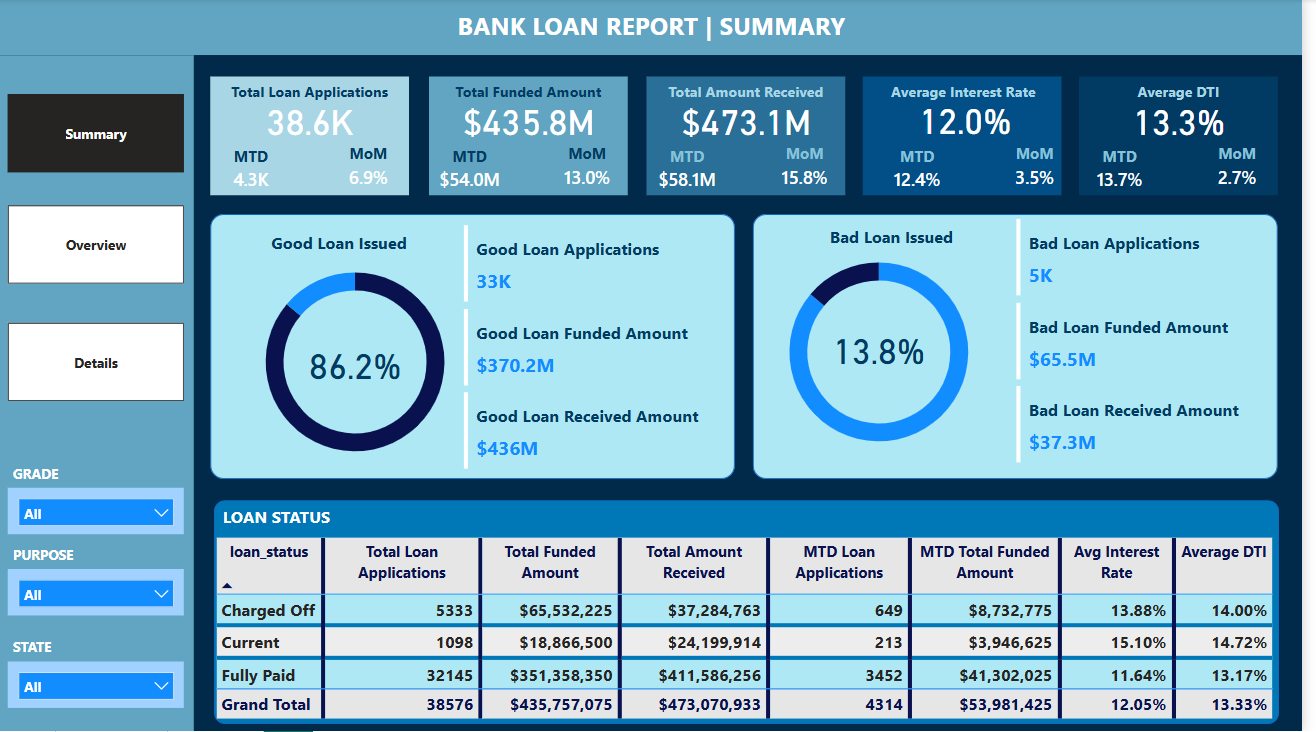

This screenshot's page, from the dashboard's own definition file:
{"tool":"powerbi","page":{"name":"Summary","canvas":[1280,720],"ordinal":0},"visuals":[{"type":"shape","box":[207.4,76.1,195.1,116.6],"z":0,"group":"g2"},{"type":"shape","box":[422.1,76.1,195.1,116.6],"z":0,"group":"g3"},{"type":"shape","box":[635.6,76.1,195.1,116.6],"z":0,"group":"g4"},{"type":"shape","box":[847.9,76.1,195.1,116.6],"z":0,"group":"g5"},{"type":"shape","box":[1060.1,76.1,195.1,116.6],"z":0,"group":"g6"},{"type":"shape","box":[207.4,211,515,260.1],"z":0},{"type":"donutChart","fields":{"Category":["financial_loan.Good v Bad Loan"],"Y":["financial_loan.Total Loan Applications"]},"box":[738.7,231.6,250.3,229.4],"z":0,"group":"g1"},{"type":"donutChart","fields":{"Category":["financial_loan.Good v Bad Loan"],"Y":["financial_loan.Total Loan Applications"]},"box":[224.5,241.7,250.3,229.4],"z":0,"group":"g7"},{"type":"shape","box":[0,55.2,191.4,665],"z":1000},{"type":"card","fields":{"Values":["financial_loan.Avg Interest Rate"]},"box":[867.7,91.9,162,50.3],"z":1000,"group":"g5"},{"type":"card","fields":{"Values":["financial_loan.Total Loan Applications"]},"box":[224.6,93.3,162,50.3],"z":1000,"group":"g2"},{"type":"card","fields":{"Values":["financial_loan.Total Funded Amount"]},"box":[439.3,93.3,162,50.3],"z":1000,"group":"g3"},{"type":"card","fields":{"Values":["financial_loan.Total Amount Received"]},"box":[652.8,93.3,162,50.3],"z":1000,"group":"g4"},{"type":"card","fields":{"Values":["financial_loan.Average DTI"]},"box":[1077.3,93.3,162,50.3],"z":1000,"group":"g6"},{"type":"textbox","box":[800.2,217.1,152.1,35.6],"z":1000,"group":"g1"},{"type":"textbox","box":[257.6,223.3,152.1,35.6],"z":1000,"group":"g7"},{"type":"shape","box":[0,0,1280.3,55],"z":2000},{"type":"textbox","box":[849.3,76,195.1,33.1],"z":2000,"group":"g5"},{"type":"textbox","box":[207.4,76.1,195.1,33.1],"z":2000,"group":"g2"},{"type":"textbox","box":[422.1,76.1,195.1,33.1],"z":2000,"group":"g3"},{"type":"textbox","box":[635.6,76.1,195.1,33.1],"z":2000,"group":"g4"},{"type":"textbox","box":[1060.1,76.1,195.1,33.1],"z":2000,"group":"g6"},{"type":"cardVisual","fields":{"Data":["financial_loan.Bad Loan Applications","financial_loan.Bad Loan Funded Amount","financial_loan.Bad Loan Received Amount"]},"box":[994,211,271.2,249.1],"z":2000,"group":"g1"},{"type":"cardVisual","fields":{"Data":["financial_loan.Good Loan Applications","financial_loan.Good Loan Funded Amount","financial_loan.Good Loan Received Amount"]},"box":[451.5,217.2,271.2,249.1],"z":2000,"group":"g7"},{"type":"card","title":"MTD","fields":{"Values":["financial_loan.MTD Loan Applications"]},"box":[207.4,143.6,79.8,51.5],"z":3000,"group":"g2"},{"type":"card","title":"MTD","fields":{"Values":["financial_loan.MTD Total Funded Amount"]},"box":[422.1,143.6,79.8,51.5],"z":3000,"group":"g3"},{"type":"card","title":"MTD","fields":{"Values":["financial_loan.MTD Total Amount Received"]},"box":[635.6,143.6,79.8,51.5],"z":3000,"group":"g4"},{"type":"card","title":"MTD","fields":{"Values":["financial_loan.MTD Average DTI"]},"box":[1060.1,143.6,79.8,51.5],"z":3000,"group":"g6"},{"type":"card","title":"MTD","fields":{"Values":["financial_loan.MTD Average Interest Rate"]},"box":[861.2,144,79.8,51.5],"z":3000,"group":"g5"},{"type":"shape","box":[739.9,211,515.3,260.1],"z":3000},{"type":"card","title":"MoM","fields":{"Values":["financial_loan.MOM Loan Apllications"]},"box":[322.7,141.1,79.8,51.5],"z":4000,"group":"g2"},{"type":"card","title":"MoM","fields":{"Values":["financial_loan.MOM Funded Amount"]},"box":[537.4,141.1,79.8,51.5],"z":4000,"group":"g3"},{"type":"card","title":"MoM","fields":{"Values":["financial_loan.MOM AMount Received"]},"box":[750.9,141.1,79.8,51.5],"z":4000,"group":"g4"},{"type":"card","title":"MoM","fields":{"Values":["financial_loan.MOM Average DTI"]},"box":[1175.4,141.1,79.8,51.5],"z":4000,"group":"g6"},{"type":"card","title":"MoM","fields":{"Values":["financial_loan.MOM Interest Rate"]},"box":[976.6,141.6,79.8,51.5],"z":4000,"group":"g5"},{"type":"card","fields":{"Values":["financial_loan.Good Loan %"]},"box":[268.7,332.5,162,50.3],"z":4000},{"type":"card","fields":{"Values":["financial_loan.Bad Loan %"]},"box":[782.8,317.8,162,50.3],"z":5000},{"type":"group","id":"g1","title":"Group 2","box":[738.7,211,526.4,250.3],"z":6000},{"type":"textbox","box":[433.1,4.9,414.7,44.2],"z":7000},{"type":"group","id":"g2","title":"Group 1","box":[207.4,76.1,195.1,119],"z":8000},{"type":"group","id":"g3","title":"Group 1","box":[422.1,76.1,195.1,119],"z":9000},{"type":"shape","box":[211,492,1045.4,219.6],"z":10000},{"type":"group","id":"g4","title":"Group 1","box":[635.6,76.1,195.1,119],"z":11000},{"type":"group","id":"g5","title":"Group 1","box":[847.9,76,208.4,119.6],"z":12000},{"type":"group","id":"g6","title":"Group 1","box":[1060.1,76.1,195.1,119],"z":13000},{"type":"group","id":"g7","title":"Group 2","box":[224.5,217.2,498.2,254],"z":14000},{"type":"tableEx","fields":{"Values":["financial_loan.loan_status","financial_loan.Total Loan Applications","financial_loan.Total Funded Amount","financial_loan.Total Amount Received","financial_loan.MTD Loan Applications","financial_loan.MTD Total Funded Amount","financial_loan.Avg Interest Rate","financial_loan.Average DTI"]},"box":[209.8,523.9,1047.9,196.3],"z":15000},{"type":"textbox","box":[214.7,492,195.1,33.1],"z":16000},{"type":"slicer","fields":{"Values":["financial_loan.address_state"]},"box":[8.6,650.3,173,45.4],"z":17000},{"type":"textbox","box":[8.6,622.1,100.6,28.2],"z":18000},{"type":"slicer","fields":{"Values":["financial_loan.purpose"]},"box":[8.6,559.5,173,45.4],"z":19000},{"type":"textbox","box":[8.6,451.5,100.6,28.2],"z":20000},{"type":"textbox","box":[8.6,531.3,100.6,28.2],"z":21000},{"type":"slicer","fields":{"Values":["financial_loan.sub_grade"]},"box":[8.6,479.8,173,45.4],"z":22000},{"type":"pageNavigator","box":[8.6,93.3,173,77.3],"z":23000},{"type":"pageNavigator","box":[8.6,202.5,173,77.3],"z":24000},{"type":"pageNavigator","box":[8.6,317.8,173,77.3],"z":25000}]}

Visuals, with their boxes in screenshot pixels (x1, y1, x2, y2), scaled from the page's 1280x720 canvas onto the 1316x732 screenshot:
shape: box(213, 77, 414, 196)
shape: box(434, 77, 635, 196)
shape: box(653, 77, 854, 196)
shape: box(872, 77, 1072, 196)
shape: box(1090, 77, 1291, 196)
shape: box(213, 215, 743, 479)
donutChart - financial_loan.Good v Bad Loan x financial_loan.Total Loan Applications: box(759, 235, 1017, 469)
donutChart - financial_loan.Good v Bad Loan x financial_loan.Total Loan Applications: box(231, 246, 488, 479)
shape: box(0, 56, 197, 731)
card - financial_loan.Avg Interest Rate: box(892, 93, 1059, 145)
card - financial_loan.Total Loan Applications: box(231, 95, 397, 146)
card - financial_loan.Total Funded Amount: box(452, 95, 618, 146)
card - financial_loan.Total Amount Received: box(671, 95, 838, 146)
card - financial_loan.Average DTI: box(1108, 95, 1274, 146)
textbox: box(823, 221, 979, 257)
textbox: box(265, 227, 421, 263)
shape: box(0, 0, 1315, 56)
textbox: box(873, 77, 1074, 111)
textbox: box(213, 77, 414, 111)
textbox: box(434, 77, 635, 111)
textbox: box(653, 77, 854, 111)
textbox: box(1090, 77, 1291, 111)
cardVisual - financial_loan.Bad Loan Applications x financial_loan.Bad Loan Funded Amount: box(1022, 215, 1301, 468)
cardVisual - financial_loan.Good Loan Applications x financial_loan.Good Loan Funded Amount: box(464, 221, 743, 474)
"MTD" card: box(213, 146, 295, 198)
"MTD" card: box(434, 146, 516, 198)
"MTD" card: box(653, 146, 736, 198)
"MTD" card: box(1090, 146, 1172, 198)
"MTD" card: box(885, 146, 967, 199)
shape: box(761, 215, 1291, 479)
"MoM" card: box(332, 143, 414, 196)
"MoM" card: box(553, 143, 635, 196)
"MoM" card: box(772, 143, 854, 196)
"MoM" card: box(1208, 143, 1291, 196)
"MoM" card: box(1004, 144, 1086, 196)
card - financial_loan.Good Loan %: box(276, 338, 443, 389)
card - financial_loan.Bad Loan %: box(805, 323, 971, 374)
"Group 2" group: box(759, 215, 1301, 469)
textbox: box(445, 5, 872, 50)
"Group 1" group: box(213, 77, 414, 198)
"Group 1" group: box(434, 77, 635, 198)
shape: box(217, 500, 1292, 723)
"Group 1" group: box(653, 77, 854, 198)
"Group 1" group: box(872, 77, 1086, 199)
"Group 1" group: box(1090, 77, 1291, 198)
"Group 2" group: box(231, 221, 743, 479)
tableEx - financial_loan.loan_status x financial_loan.Total Loan Applications: box(216, 533, 1293, 731)
textbox: box(221, 500, 421, 534)
slicer - financial_loan.address_state: box(9, 661, 187, 707)
textbox: box(9, 632, 112, 661)
slicer - financial_loan.purpose: box(9, 569, 187, 615)
textbox: box(9, 459, 112, 488)
textbox: box(9, 540, 112, 569)
slicer - financial_loan.sub_grade: box(9, 488, 187, 534)
pageNavigator: box(9, 95, 187, 173)
pageNavigator: box(9, 206, 187, 284)
pageNavigator: box(9, 323, 187, 402)
